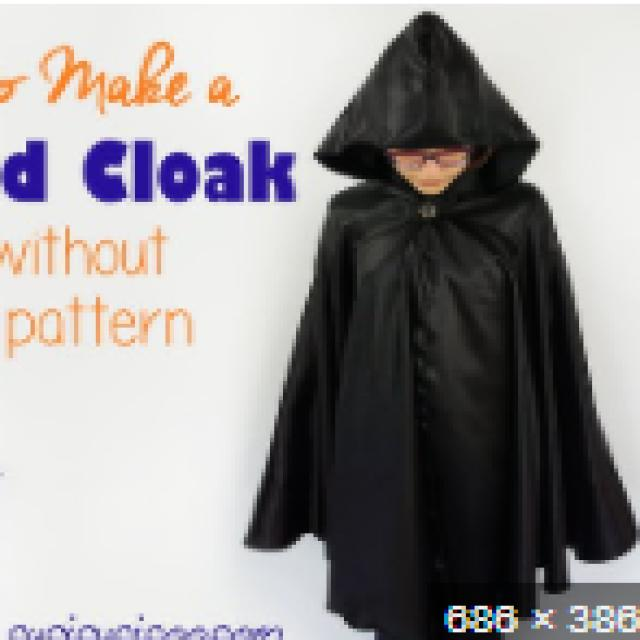4_capucha: (312, 10, 543, 212)
